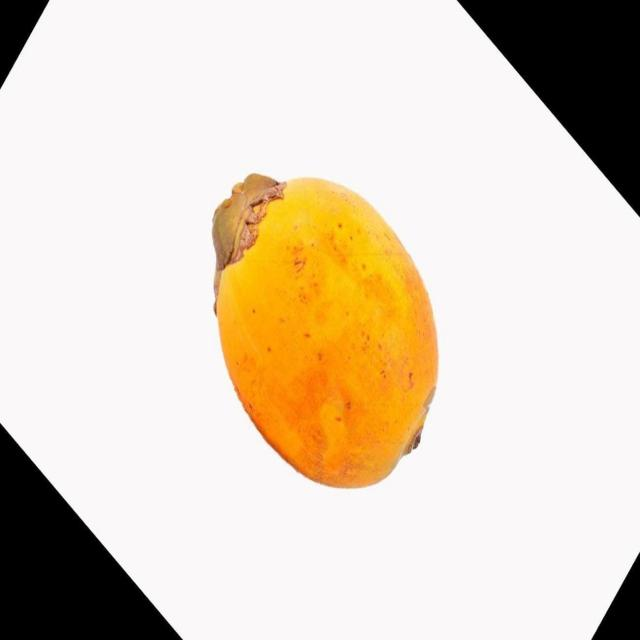good: (211, 175, 440, 491)
